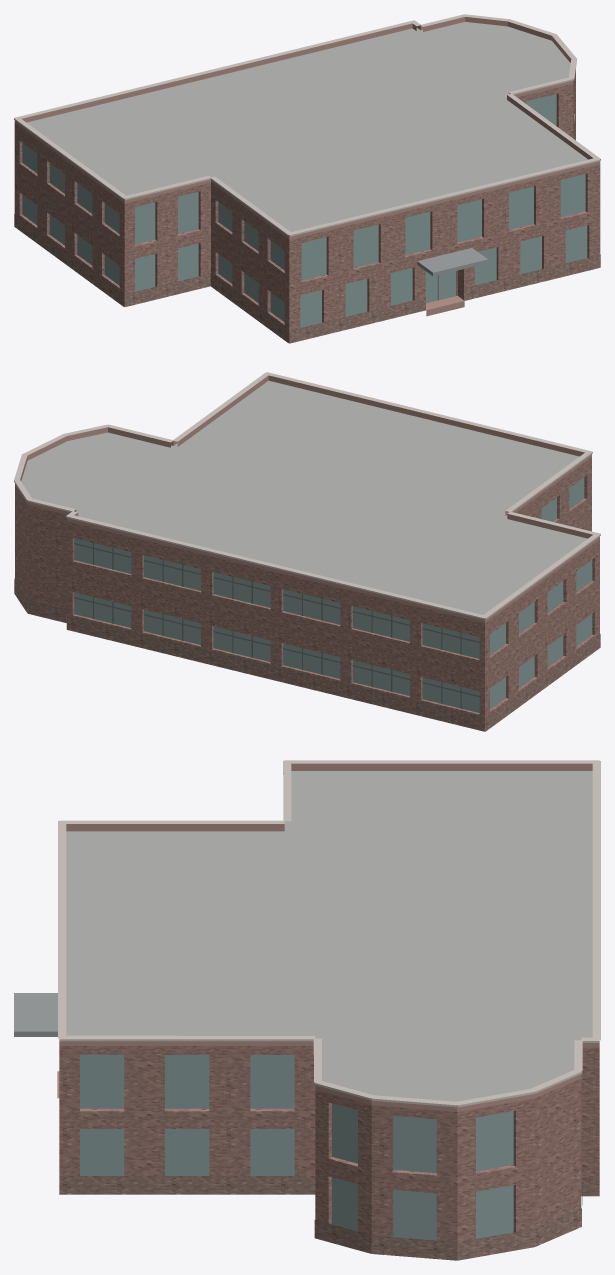
3 views of the same model, one above another, from view 1: azimuth 30°, elevation 25°; view 2: azimuth 150°, elevation 25°; view 3: azimuth 270°, elevation 25° (orthographic). The views are drawn at different scales.
Visible parts, largest first — view 1: b115951788__roof, b115951788__wall, b115951788__glass, b115951788__base, b115951788__trim, b115951788__parapet, b115951788__canopy, b115951788__entranceThreshold_0; view 2: b115951788__roof, b115951788__wall, b115951788__glass, b115951788__base, b115951788__trim, b115951788__parapet, b115951788__frame; view 3: b115951788__roof, b115951788__wall, b115951788__glass, b115951788__trim, b115951788__base, b115951788__parapet, b115951788__canopy.
Part boxes in pixels (x1=…): b115951788__roof: x1=27, y1=22, x2=587, y2=343; b115951788__wall: x1=14, y1=69, x2=600, y2=343; b115951788__glass: x1=22, y1=94, x2=587, y2=327; b115951788__base: x1=14, y1=214, x2=600, y2=343; b115951788__trim: x1=14, y1=14, x2=600, y2=236; b115951788__parapet: x1=14, y1=17, x2=600, y2=239; b115951788__canopy: x1=417, y1=248, x2=487, y2=276; b115951788__entranceThreshold_0: x1=426, y1=296, x2=464, y2=316; b115951788__roof: x1=21, y1=380, x2=587, y2=614; b115951788__wall: x1=15, y1=457, x2=599, y2=731; b115951788__glass: x1=74, y1=477, x2=592, y2=712; b115951788__base: x1=14, y1=578, x2=600, y2=731; b115951788__trim: x1=14, y1=372, x2=600, y2=619; b115951788__parapet: x1=15, y1=375, x2=599, y2=623; b115951788__frame: x1=74, y1=543, x2=479, y2=708; b115951788__roof: x1=66, y1=771, x2=592, y2=1101; b115951788__wall: x1=59, y1=1046, x2=599, y2=1259; b115951788__glass: x1=80, y1=1054, x2=513, y2=1240; b115951788__trim: x1=58, y1=760, x2=600, y2=1107; b115951788__base: x1=59, y1=1176, x2=599, y2=1260; b115951788__parapet: x1=59, y1=763, x2=599, y2=1111; b115951788__canopy: x1=14, y1=993, x2=57, y2=1036.
Size of the model in its own units: 35.92 by 7.95 by 25.82.
Materials: 10 (2 with a texture image).
